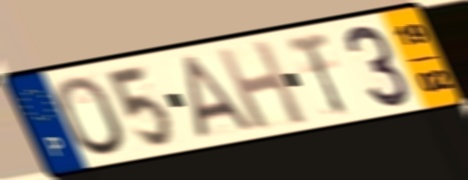3: (340, 21, 410, 111)
5: (102, 61, 179, 149)
A: (180, 52, 256, 142)
H: (212, 37, 311, 133)
O: (54, 73, 130, 159)
T: (282, 29, 350, 119)
